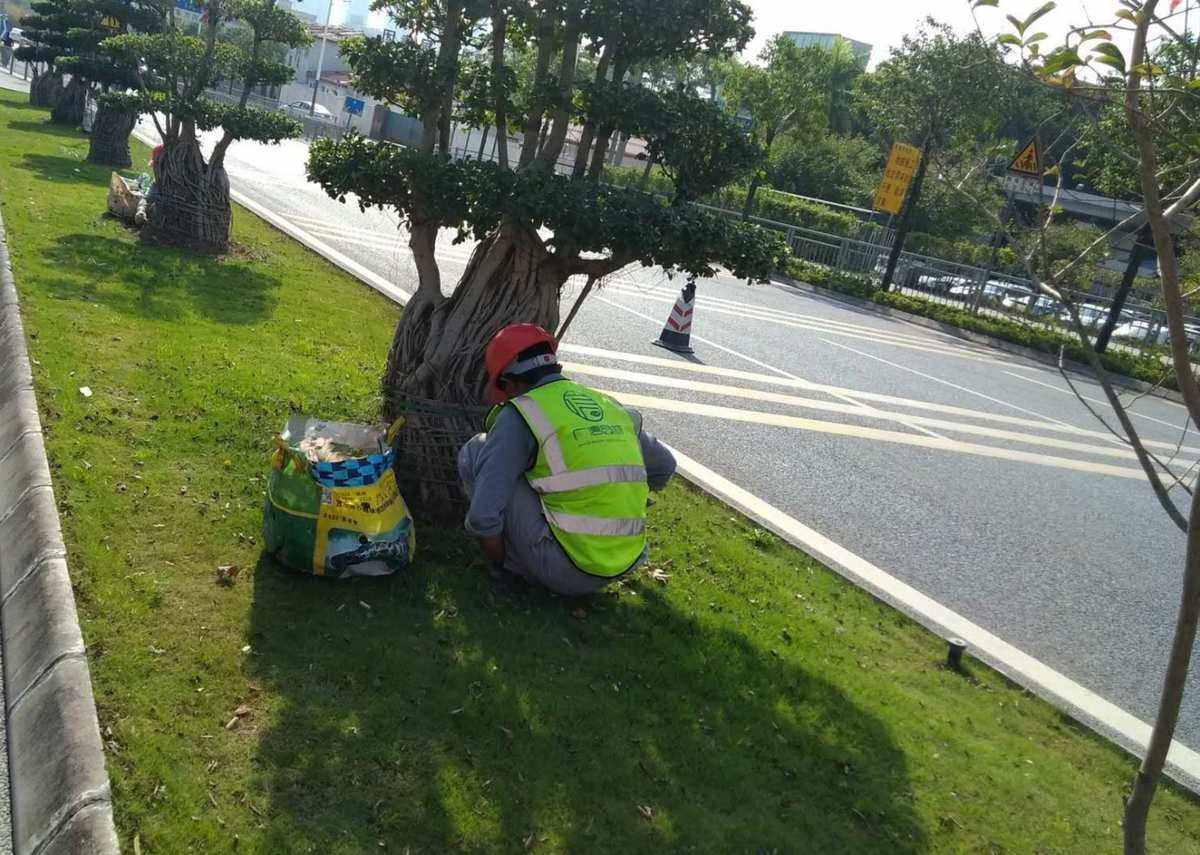person: (452, 320, 678, 602)
reflective_vest: (483, 382, 652, 578)
safety_helmet: (481, 319, 565, 408)
